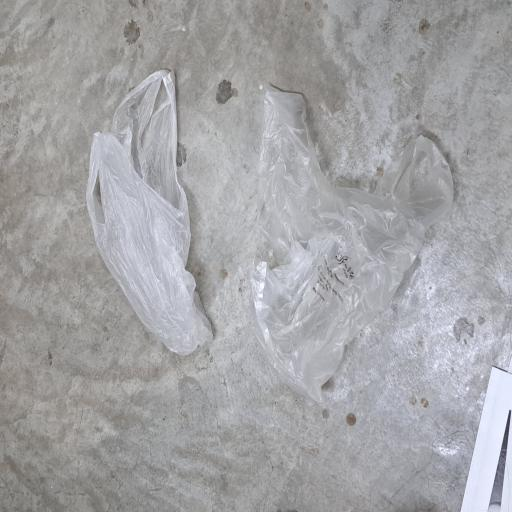plastic bag: (81, 331, 322, 512), (118, 114, 332, 289)
